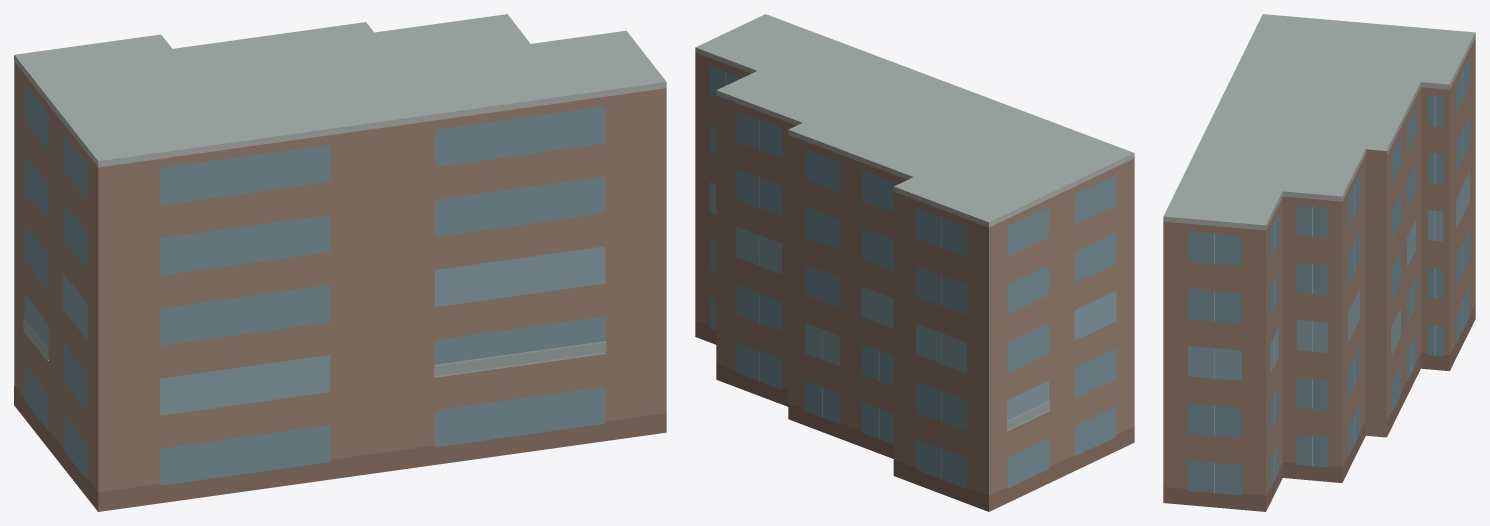
File: survey-upis-32692225.glb
3 renders of one model, left to right at view 1: azimuth 30°, elevation 25°; view 2: azimuth 150°, elevation 25°; view 3: azimuth 270°, elevation 25°, orthographic. The views are drawn at different scales.
Visible parts, largest first — view 1: survey-upis-32692225.tmp; view 2: survey-upis-32692225.tmp; view 3: survey-upis-32692225.tmp.
Part boxes in pixels (bbox=[...]): survey-upis-32692225.tmp: bbox=[14, 14, 666, 511]; survey-upis-32692225.tmp: bbox=[695, 14, 1134, 511]; survey-upis-32692225.tmp: bbox=[1163, 14, 1475, 511].
Bounding box in the file's own units: 21.93 × 13.85 × 13.69.
